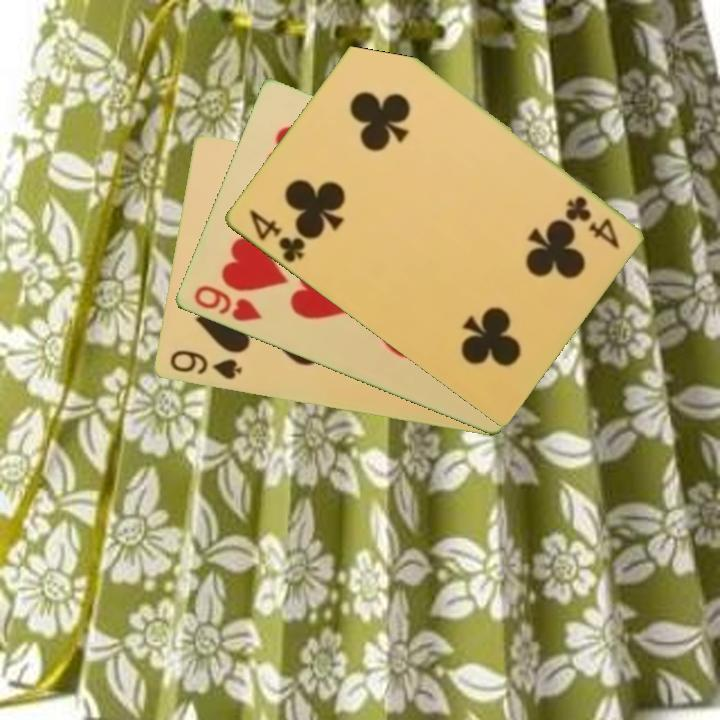4c: (245, 205, 308, 266), (561, 192, 623, 252)
9h: (190, 281, 265, 325)
9s: (166, 347, 244, 383)
